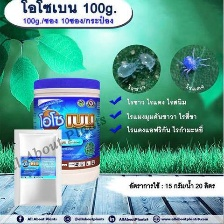insecticide: (28, 76, 102, 186), (7, 125, 64, 208)
